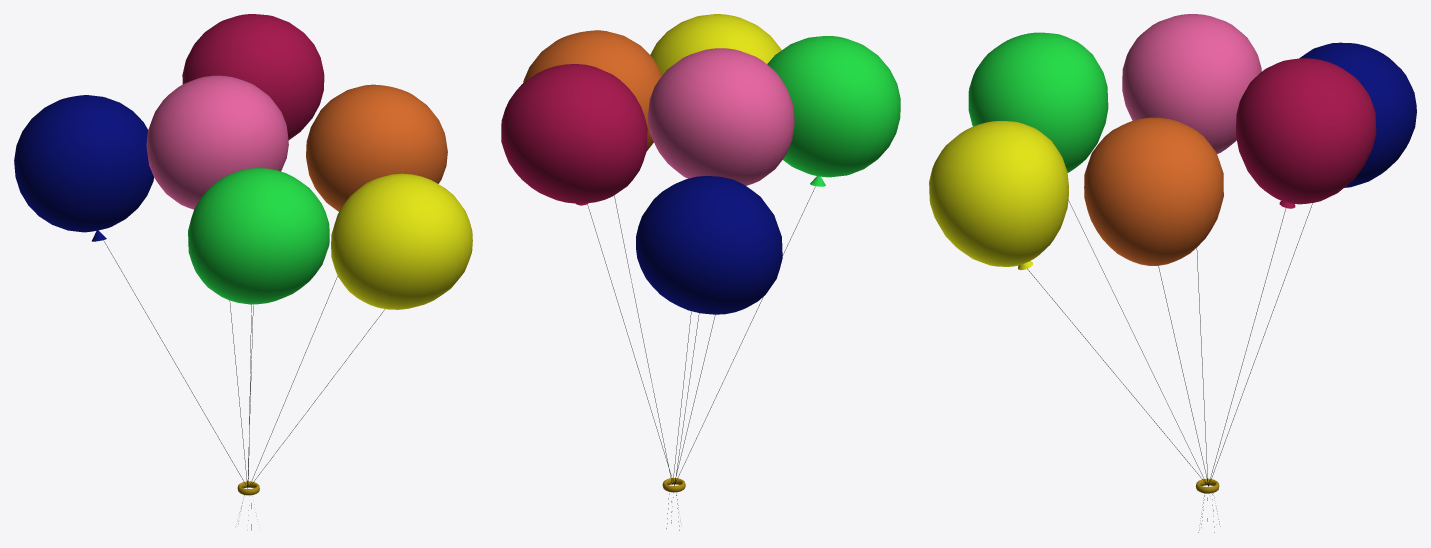
Rendered from baloons.FBX.
3 renders of one model, left to right at view 1: azimuth 30°, elevation 25°; view 2: azimuth 150°, elevation 25°; view 3: azimuth 270°, elevation 25°, orthographic. The views are drawn at different scales.
Visible parts, largest first — view 1: BALLOON; view 2: BALLOON; view 3: BALLOON.
Part boxes in pixels (x1,y1,x2,y2): BALLOON: [14, 14, 472, 530]; BALLOON: [501, 14, 900, 530]; BALLOON: [929, 14, 1416, 532].
Size of the model in its own units: 258 by 350 by 314.
